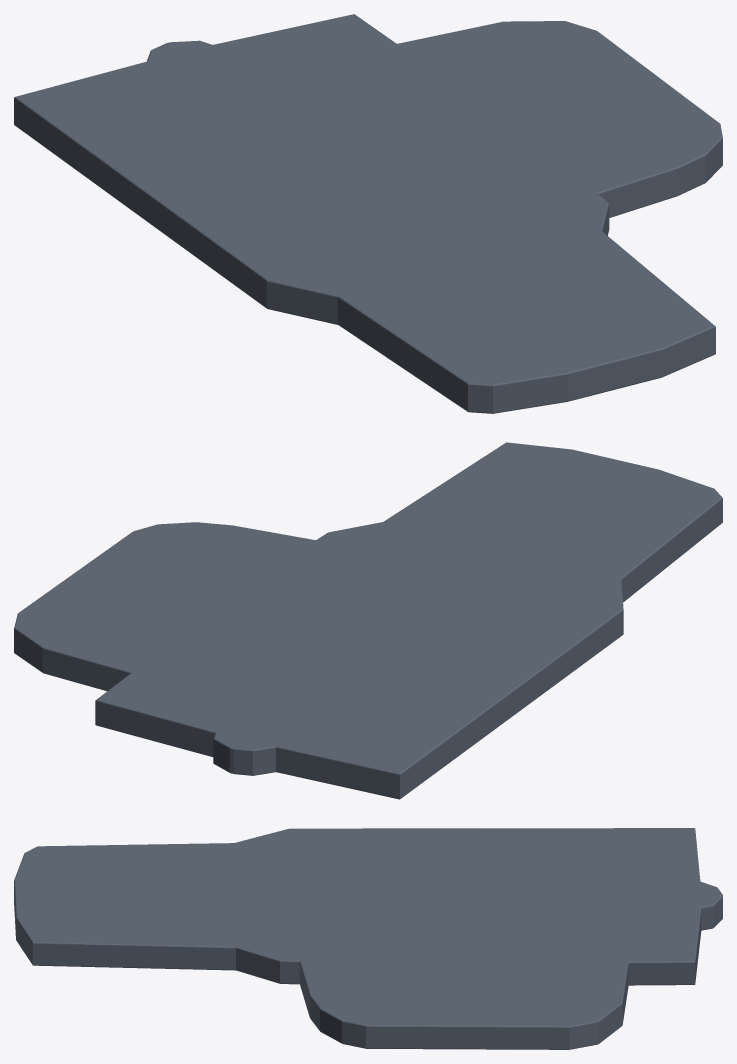
File: stanley-1913-x-antonela-quencher-protour-flip-straw-tumbler-trace-1d9b551865.glb
3 views of the same model, one above another, from view 1: azimuth 30°, elevation 25°; view 2: azimuth 150°, elevation 25°; view 3: azimuth 270°, elevation 25° (orthographic). The views are drawn at different scales.
Visible parts, largest first — view 1: flat_item_body; view 2: flat_item_body; view 3: flat_item_body.
Boxes of the visible parts, bbox=[...] form: flat_item_body: bbox=[14, 14, 722, 413]; flat_item_body: bbox=[14, 442, 722, 799]; flat_item_body: bbox=[14, 828, 722, 1049].
Bounding box in the file's own units: 79.62 × 4.4 × 120.
